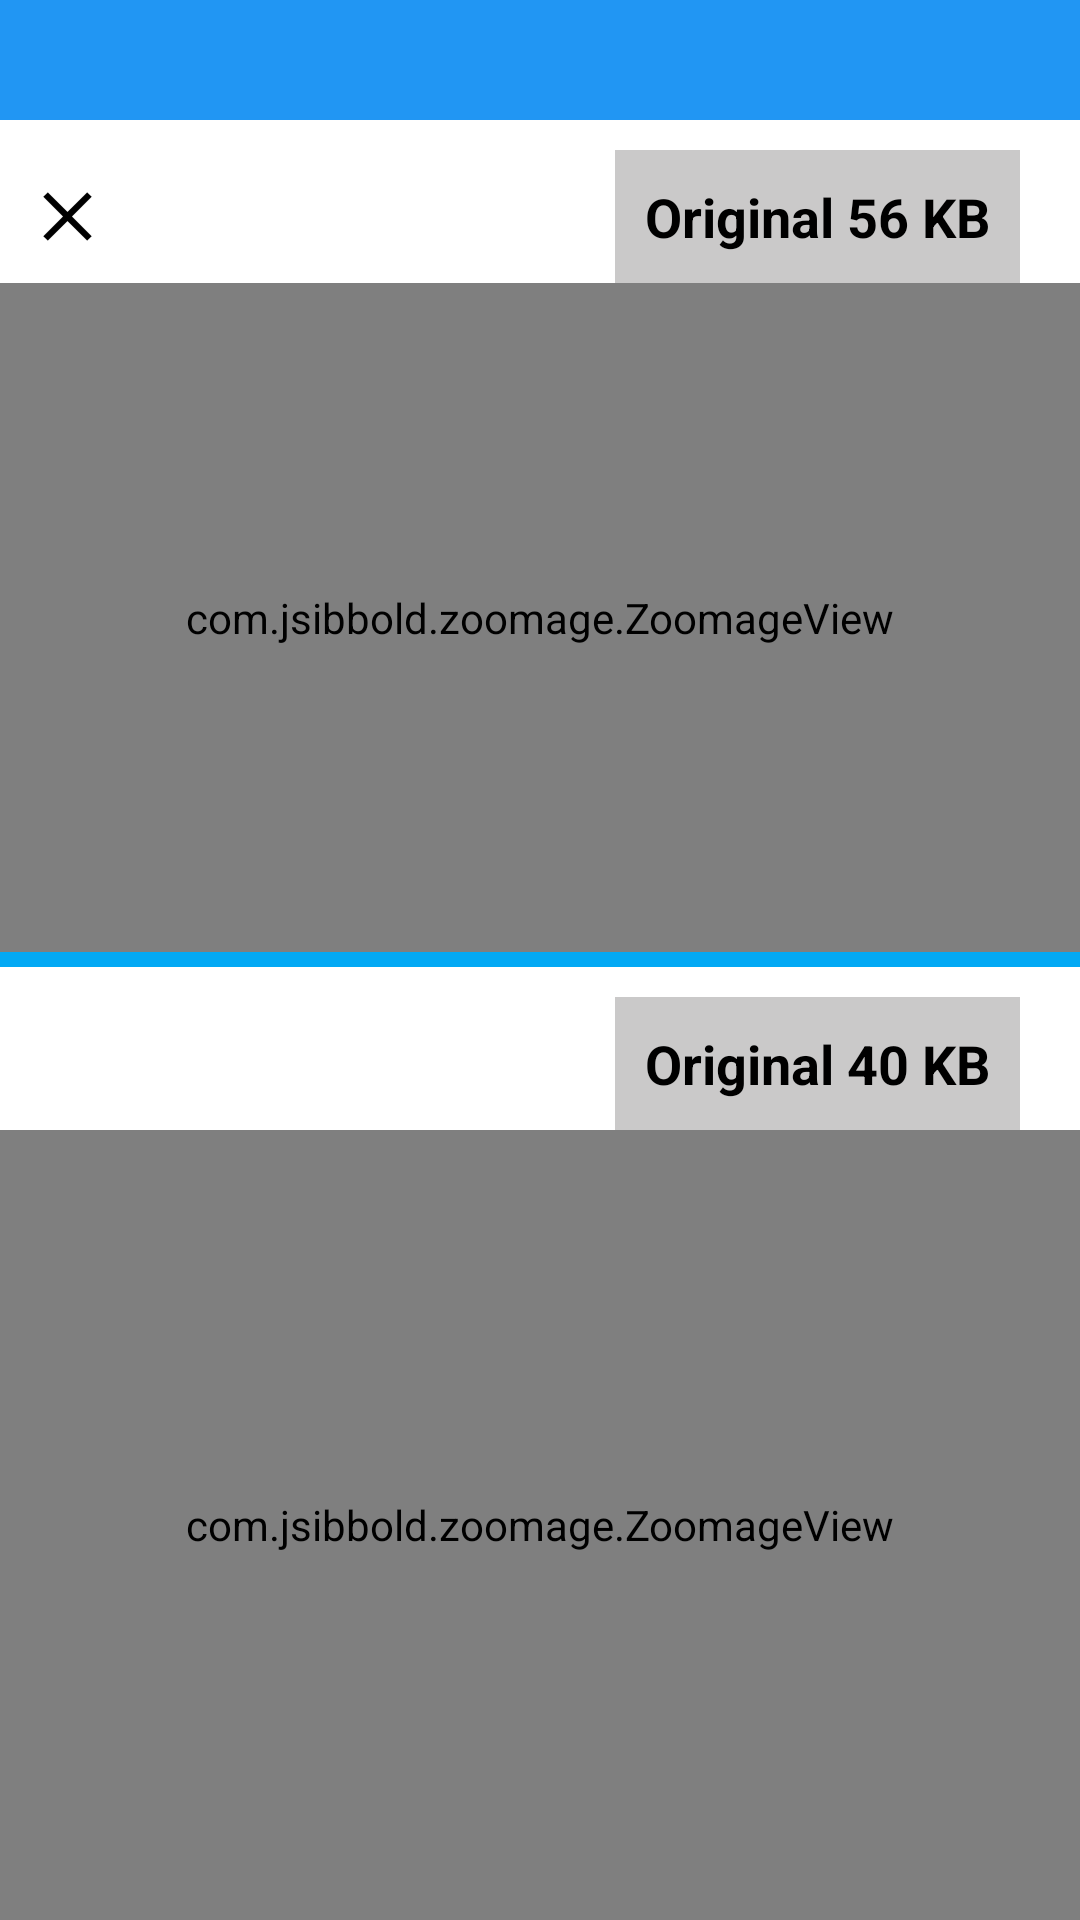

Locate icon controls on the screen. Image size 1080 × 1920, boxes as [x1, y1, x2, y2].
cancel: [43, 192, 92, 241]
